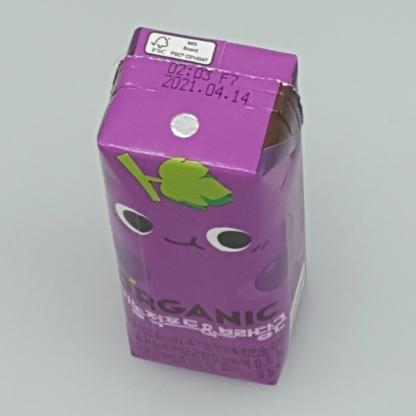---------------: (96, 27, 306, 386)
